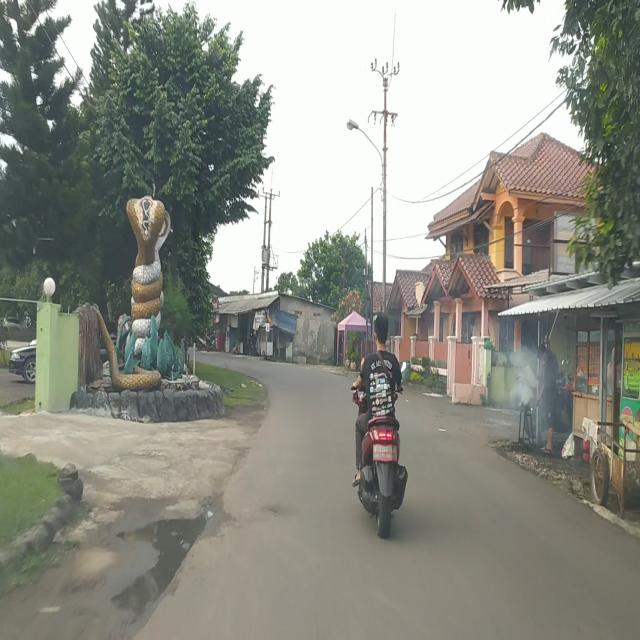Drain Hole: (256, 499, 288, 517)
